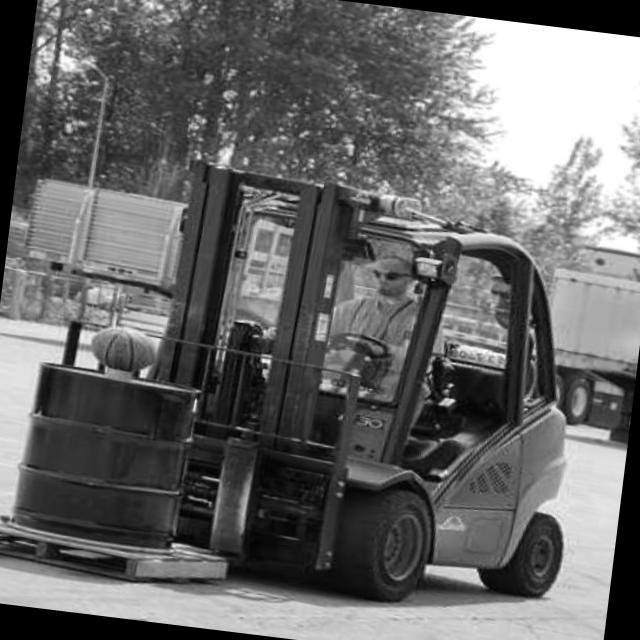driver: (308, 240, 466, 428)
forklift: (92, 141, 629, 640)
